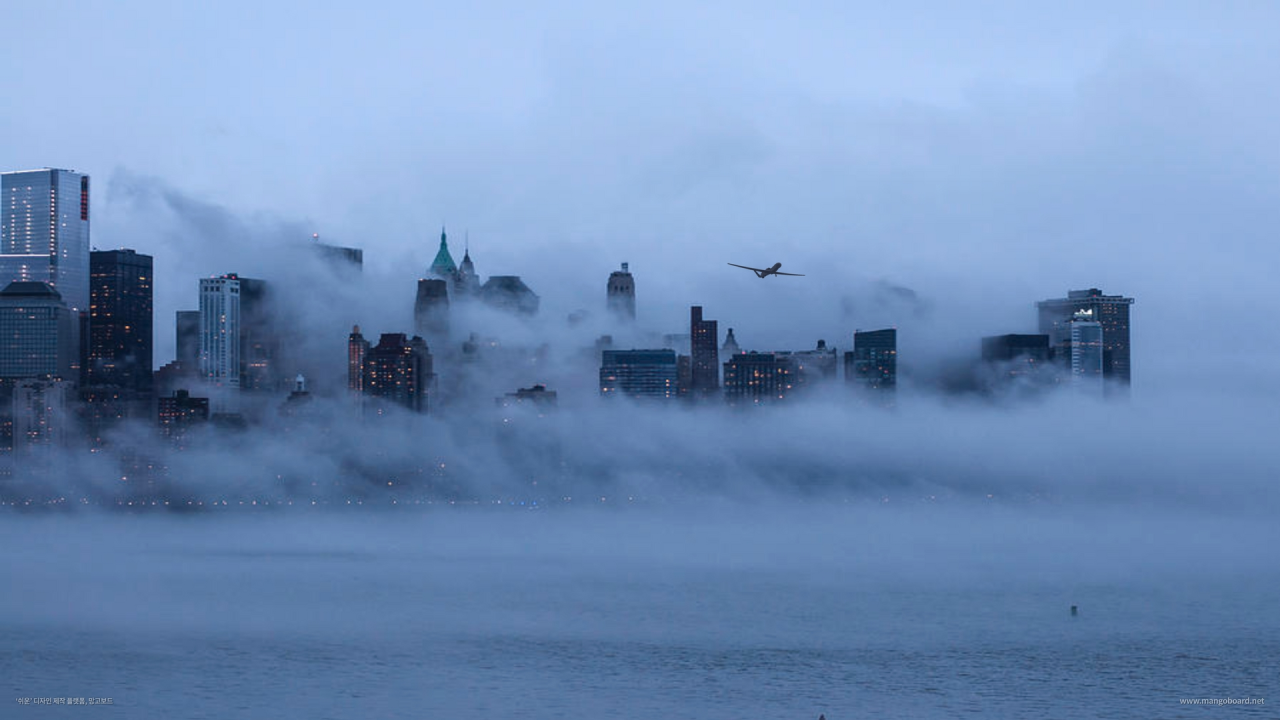military drone: (727, 262, 807, 278)
